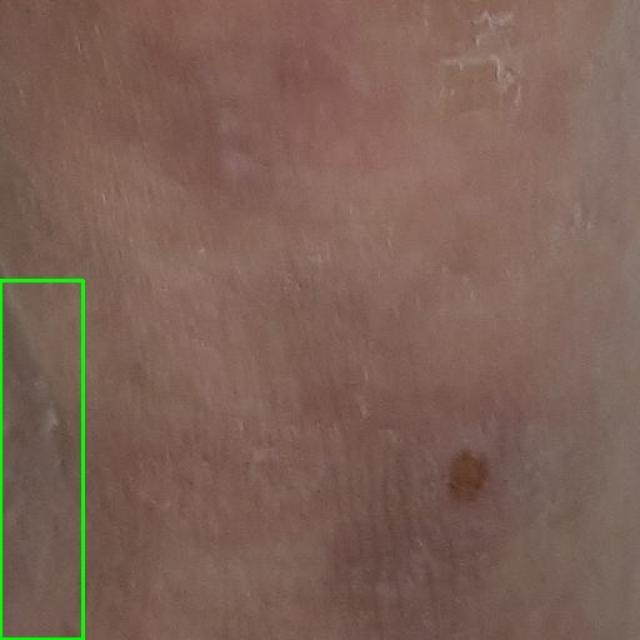Tinea Corporis: (0, 280, 82, 639)
